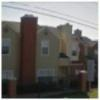chimneys: (20, 12, 38, 43)
